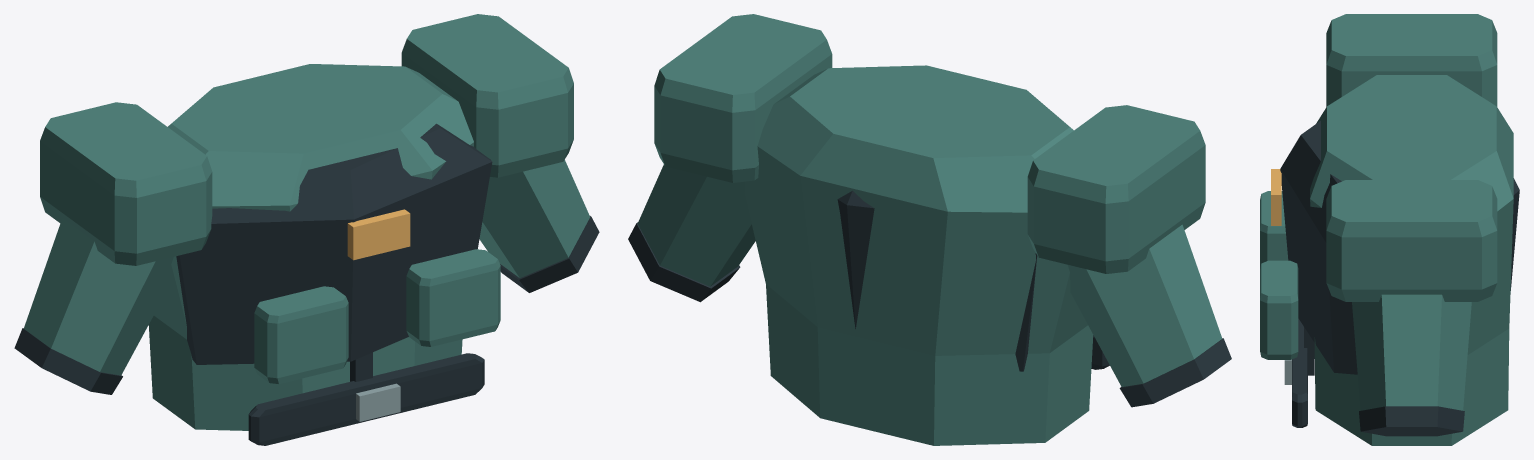
The model's file is SM_NPC_TOP_003_Military.glb.
3 renders of one model, left to right at view 1: azimuth 30°, elevation 25°; view 2: azimuth 150°, elevation 25°; view 3: azimuth 270°, elevation 25°, orthographic. The views are drawn at different scales.
Parts seen in each view (by area): view 1: SM_NPC_TOP_003_Military; view 2: SM_NPC_TOP_003_Military; view 3: SM_NPC_TOP_003_Military.
Boxes of the visible parts, bbox=[...] form: SM_NPC_TOP_003_Military: bbox=[14, 14, 599, 445]; SM_NPC_TOP_003_Military: bbox=[628, 14, 1231, 445]; SM_NPC_TOP_003_Military: bbox=[1260, 14, 1519, 445].
Bounding box in the file's own units: 1.03 × 0.5 × 0.4407.
